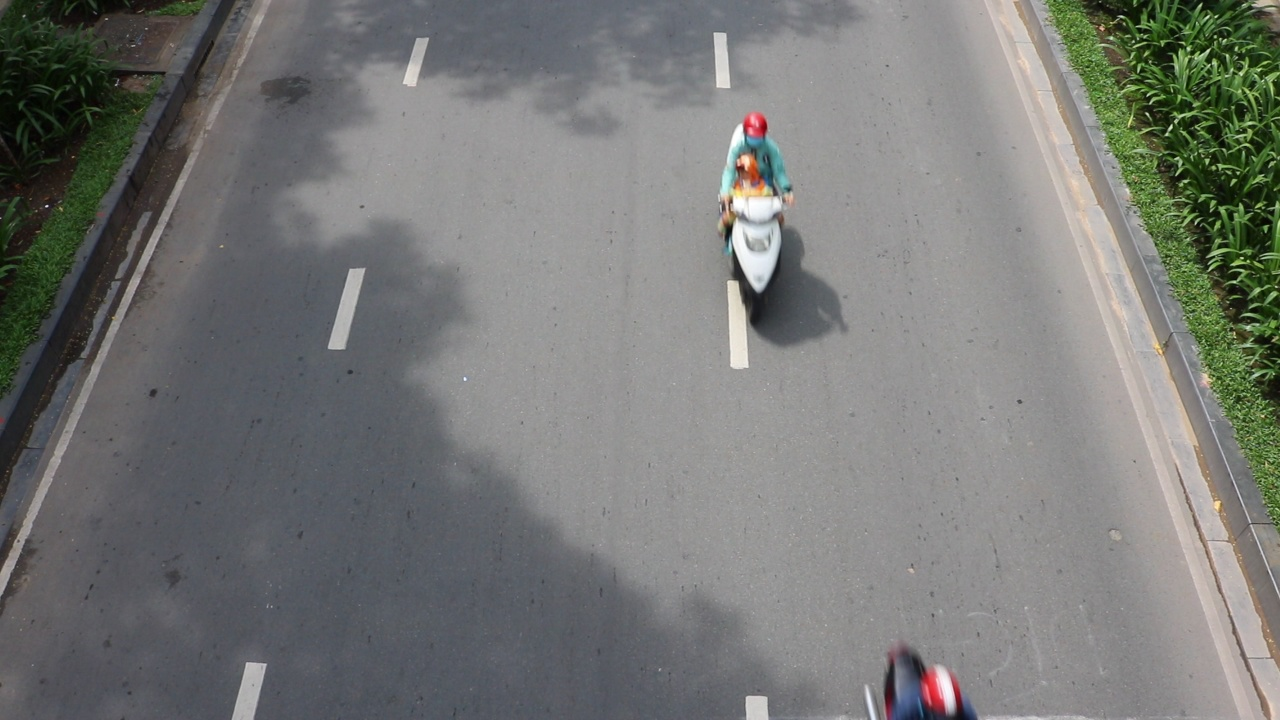motorcycle: (721, 191, 791, 323)
